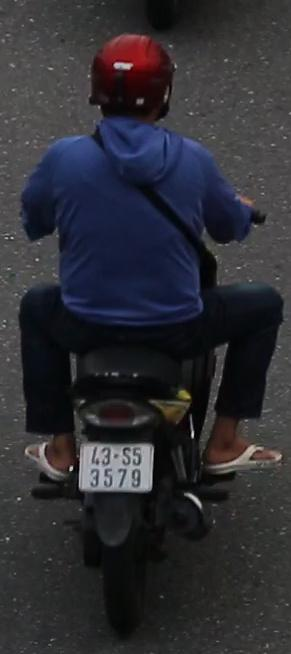LP: (75, 439, 157, 500)
helmet: (81, 30, 178, 139)
